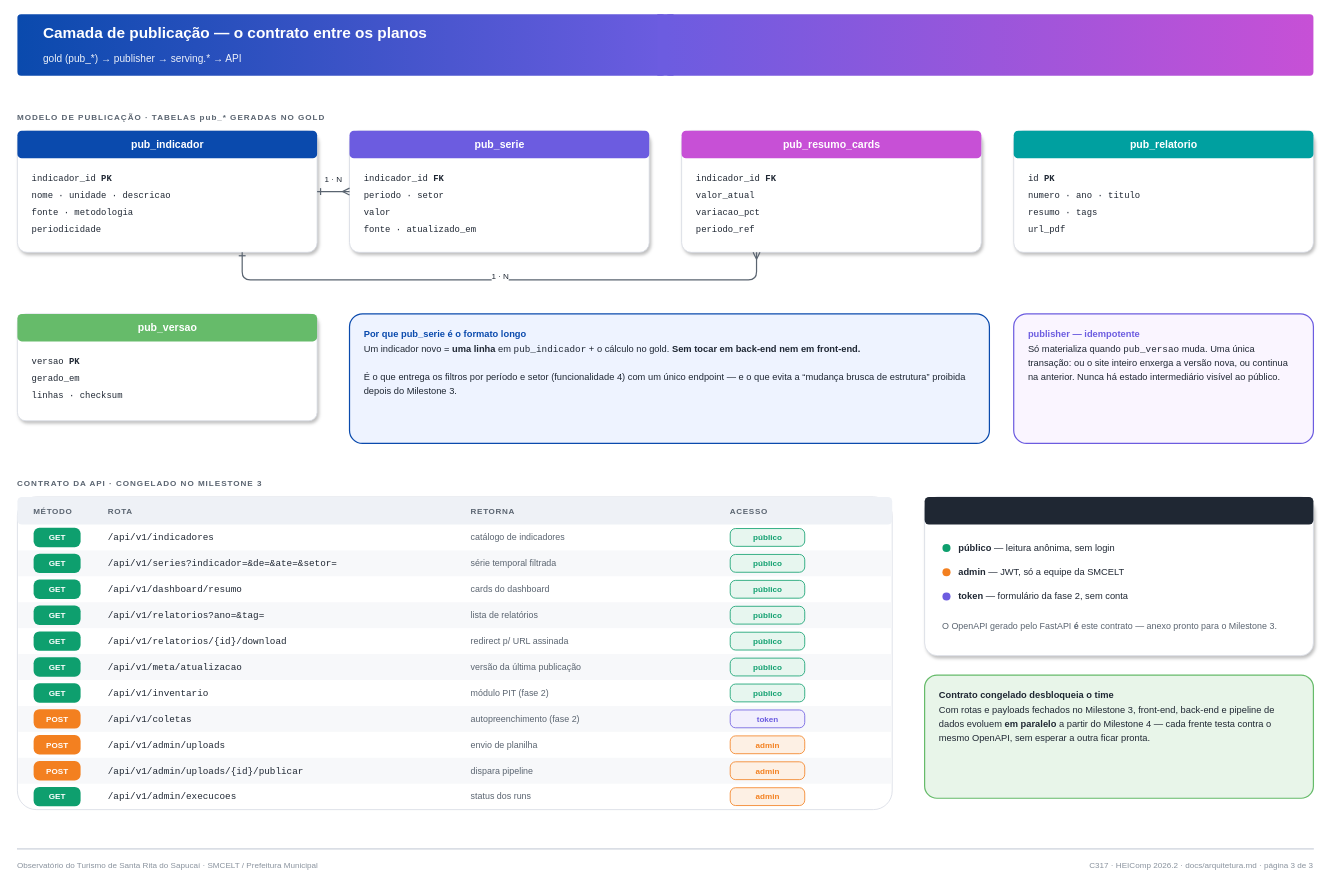
Image size: 1332x886. Some labels were removed from this diagram. Each missing label, with the centre of its shape:
Autenticação: the point at 1118,510
SMCELT · Prefeitura Municipal de Santa Rita do Sapucaí: the point at 989,44
